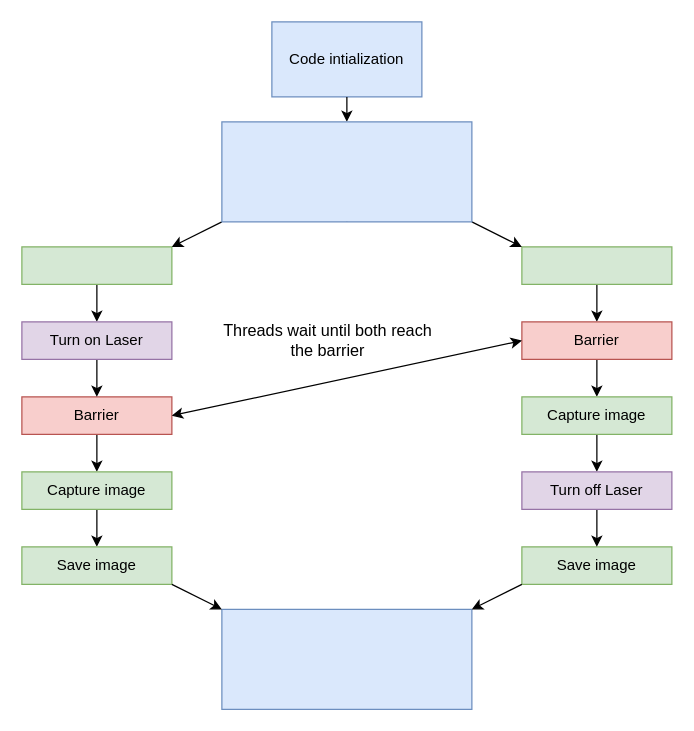
Some shapes in this 694 by 731 pixel diagram are drawn without their labels. The box of each missing label's shape, as (x1, y1, x2, y2) in pixels:
Join threads stop data stream: (221, 608, 472, 709)
Preparing the cameras (run once for each camera): (221, 121, 472, 222)
Thread 1: (21, 246, 172, 284)
Thread 2: (521, 246, 672, 284)
